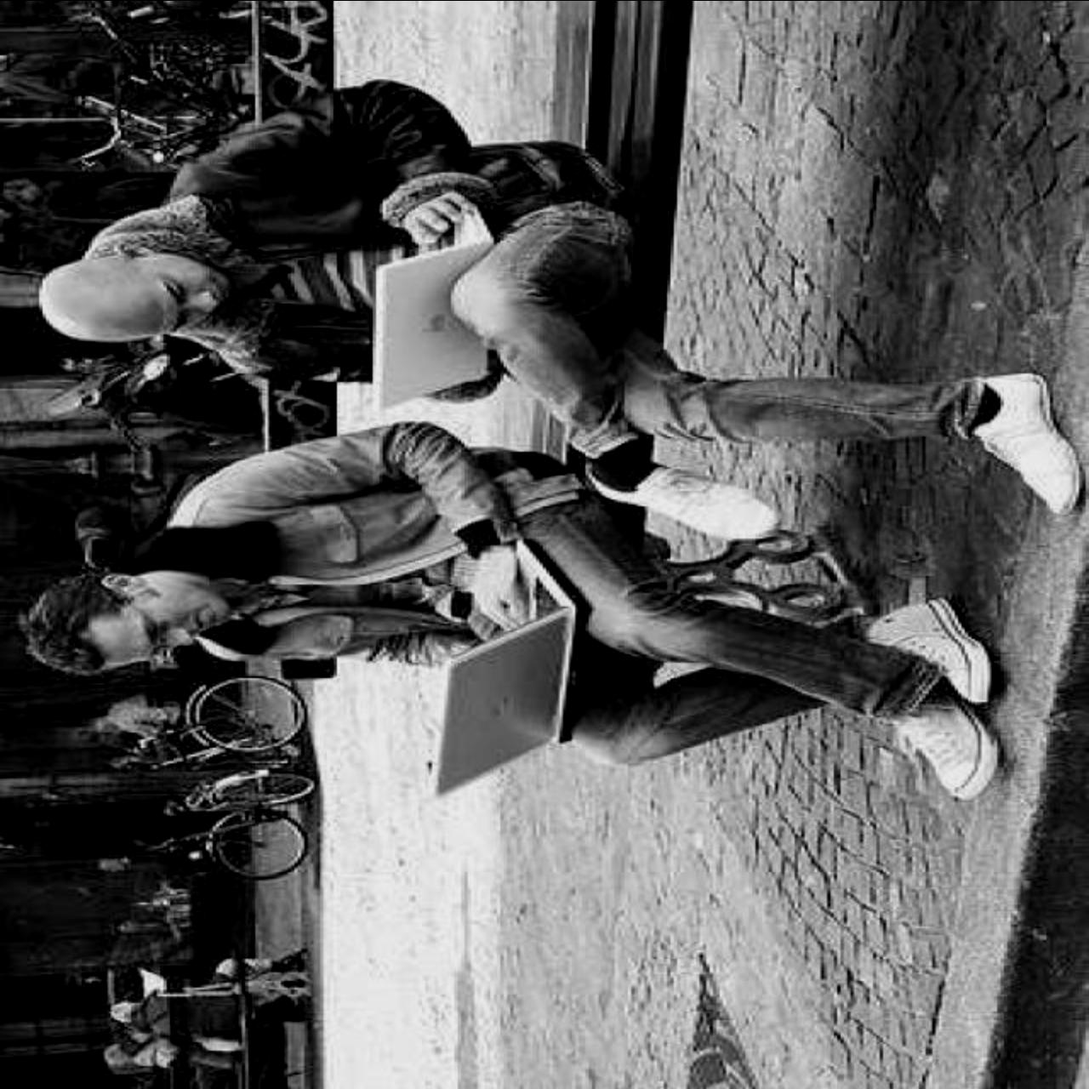laptop: (432, 590, 575, 792), (372, 247, 493, 400)
